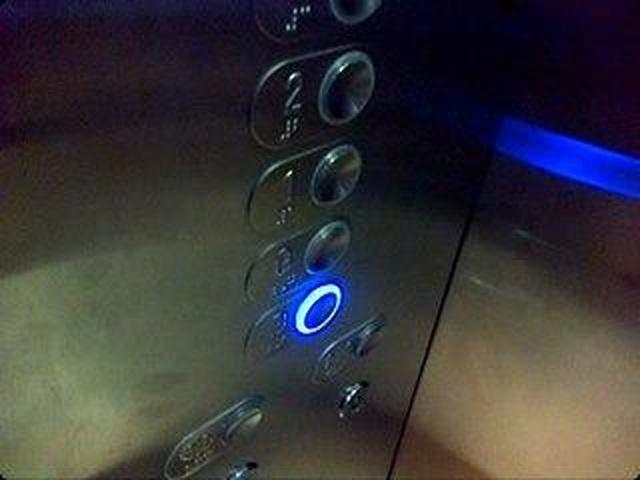1: (238, 136, 368, 220)
2: (245, 39, 381, 150)
blur: (238, 271, 351, 361), (238, 212, 356, 298), (159, 393, 267, 479), (305, 309, 394, 383), (333, 378, 373, 422)
